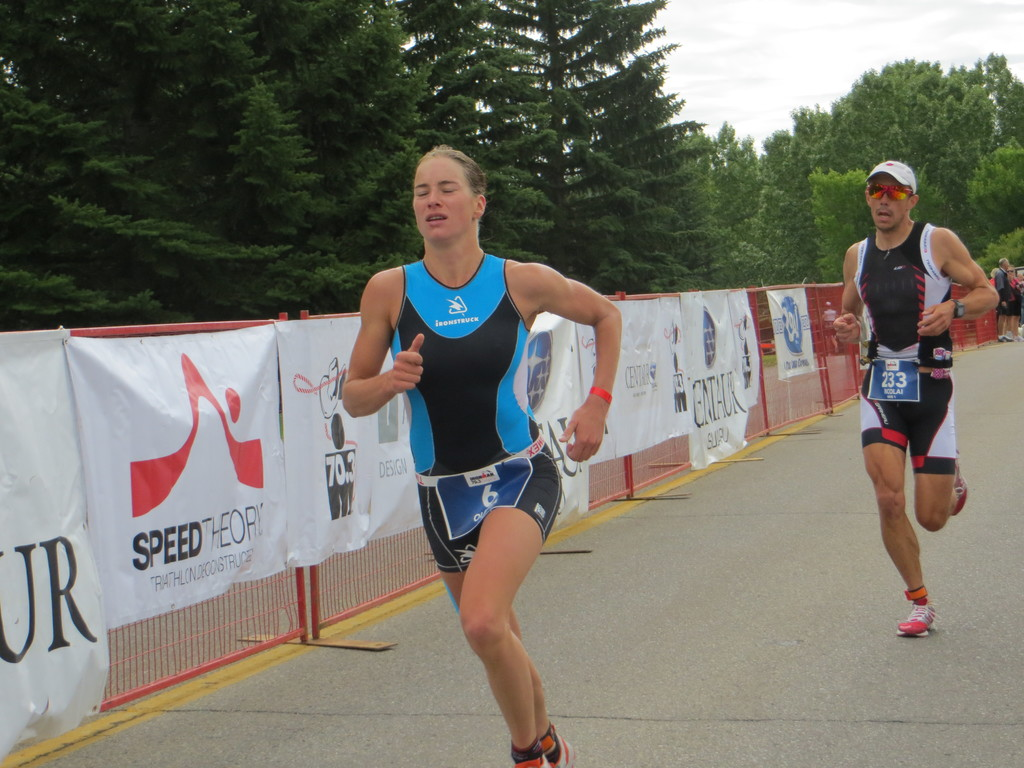Footwear: (897, 590, 936, 636), (535, 726, 570, 767), (948, 458, 965, 516), (518, 751, 551, 767), (1000, 333, 1012, 341)
